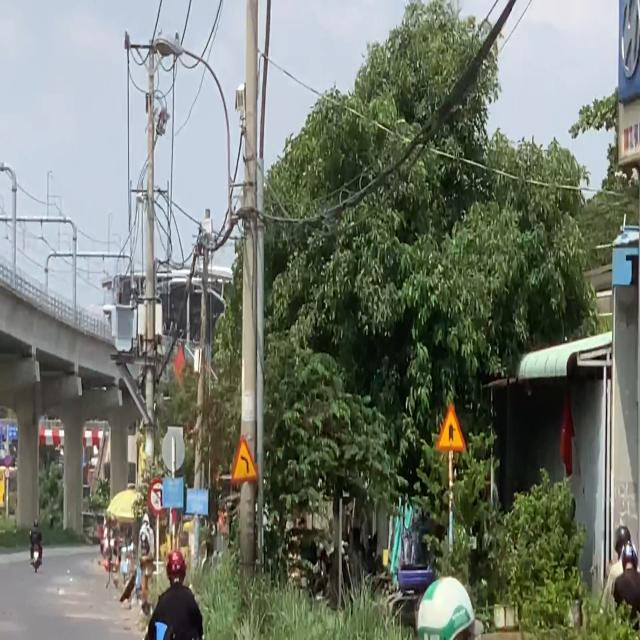Giao voi duong khong uu tien: (435, 402, 467, 452)
Nguy hiem: (230, 432, 260, 486)
